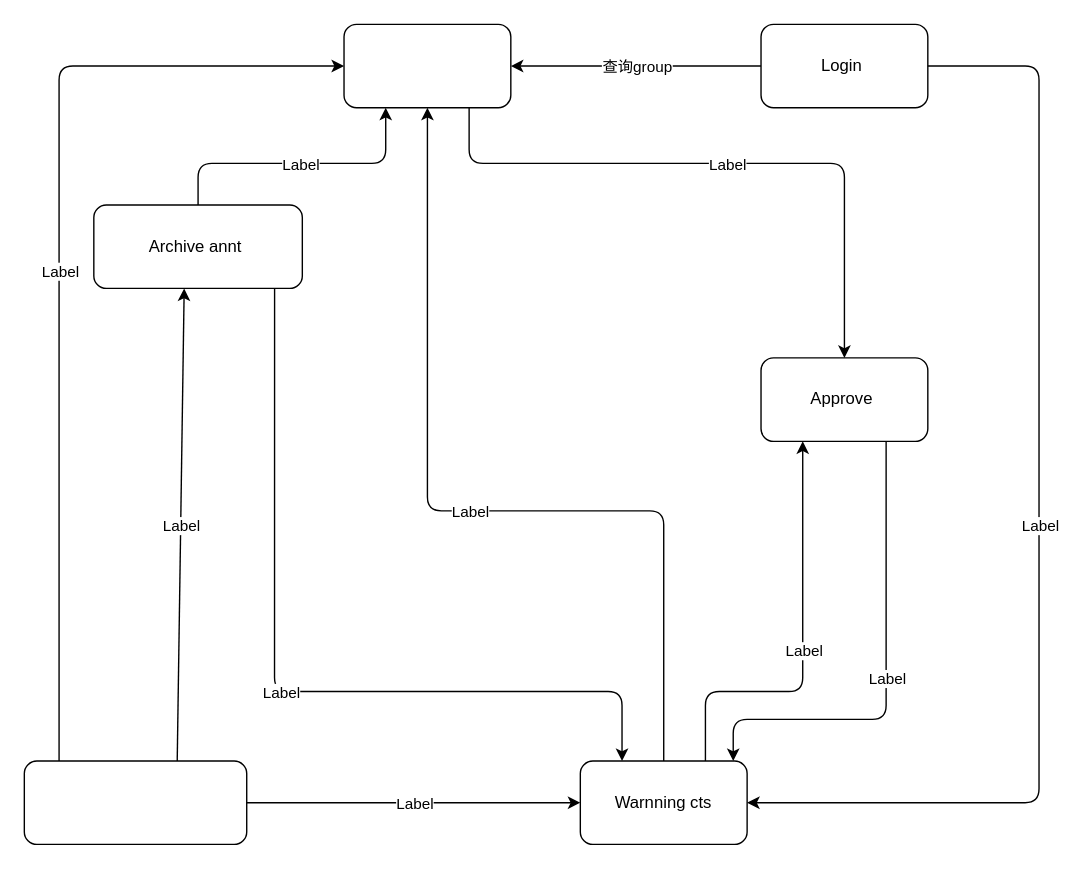
The diagram is 1083 pixels wide and 869 high, and some of its shapes have lost their labels. The shapes that lost their labels are listed below. From the top down, each one's box as (x1, y1, x2, y2) in pixels, then its label:
(343, 23, 511, 108): Archive cst
(23, 760, 247, 844): Warning msg
